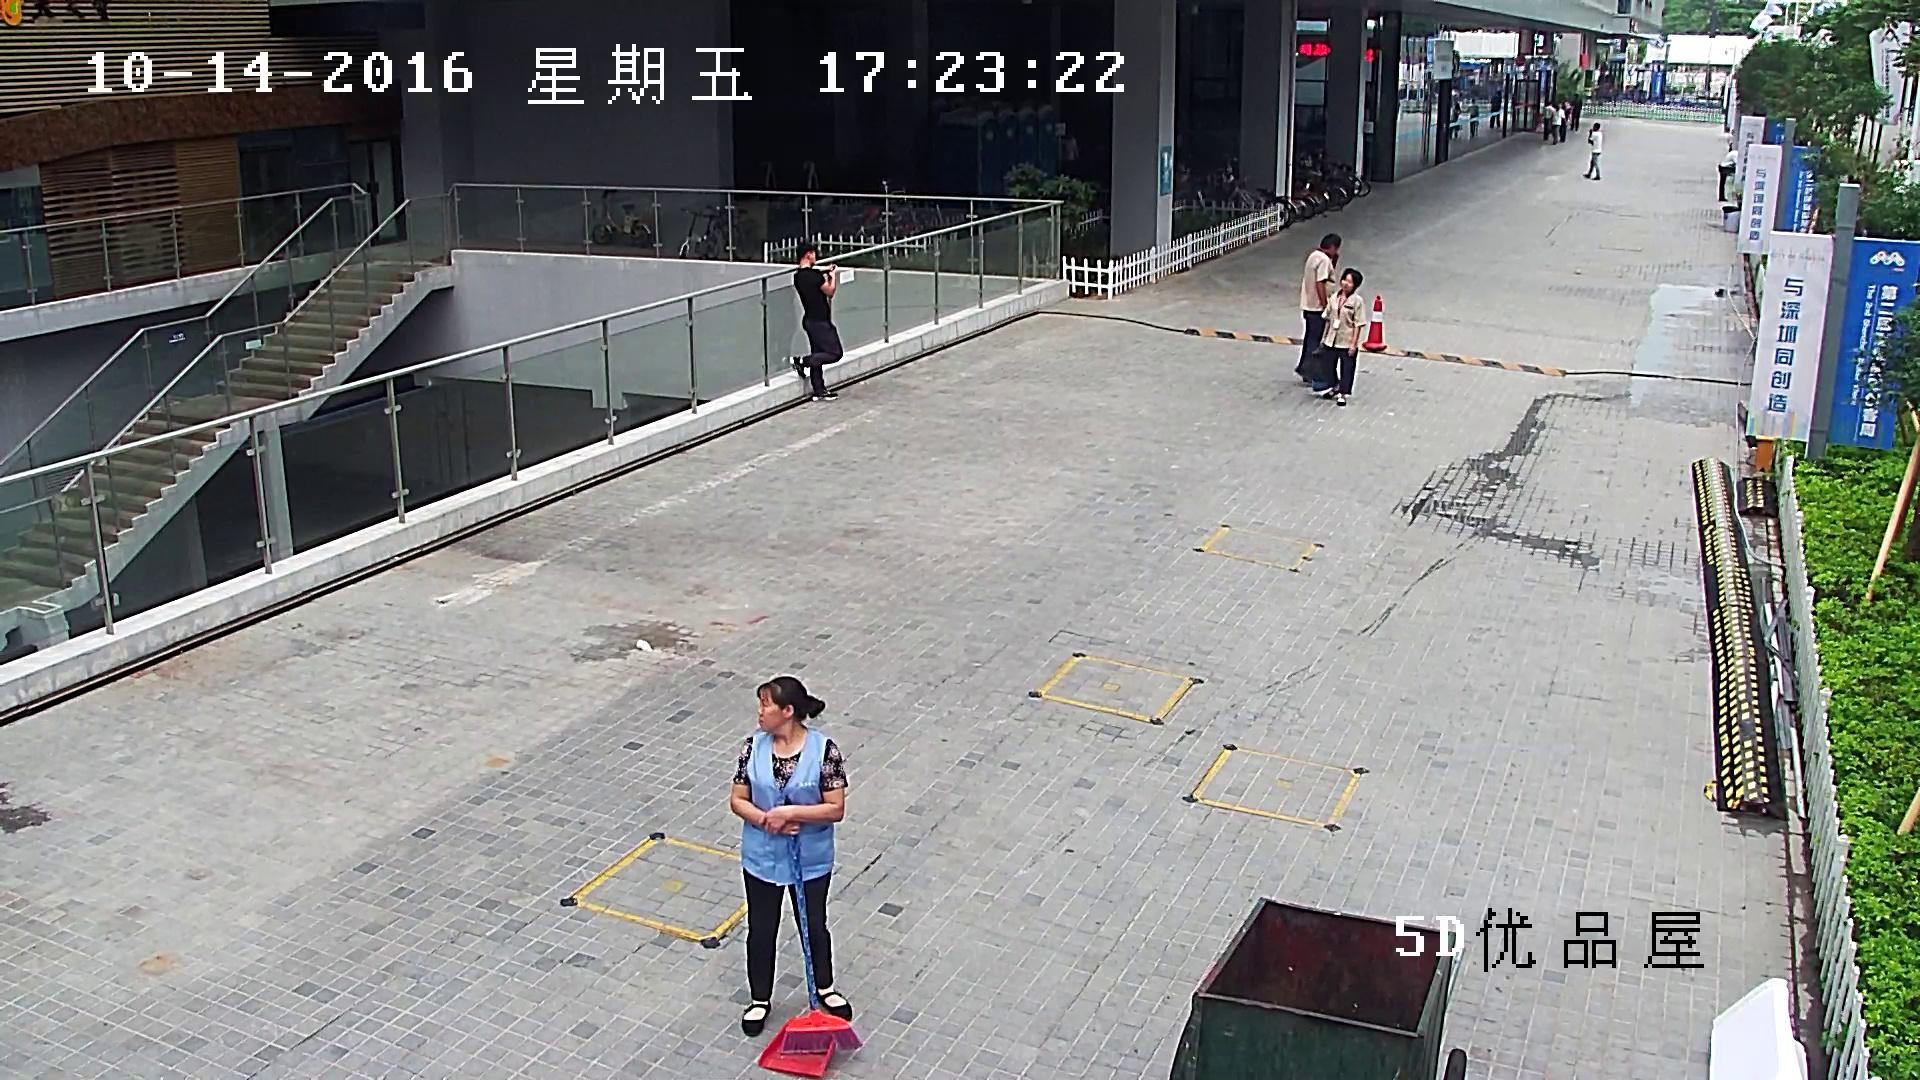person: (730, 675, 862, 1078), (730, 676, 852, 1036), (789, 243, 842, 401), (1311, 268, 1366, 406), (1294, 233, 1341, 387), (1718, 150, 1739, 200), (1582, 122, 1601, 180), (1551, 99, 1565, 145), (1543, 101, 1556, 140), (1569, 93, 1582, 131), (1717, 127, 1734, 150), (1490, 90, 1501, 128), (1449, 103, 1460, 139), (1470, 98, 1478, 138)
